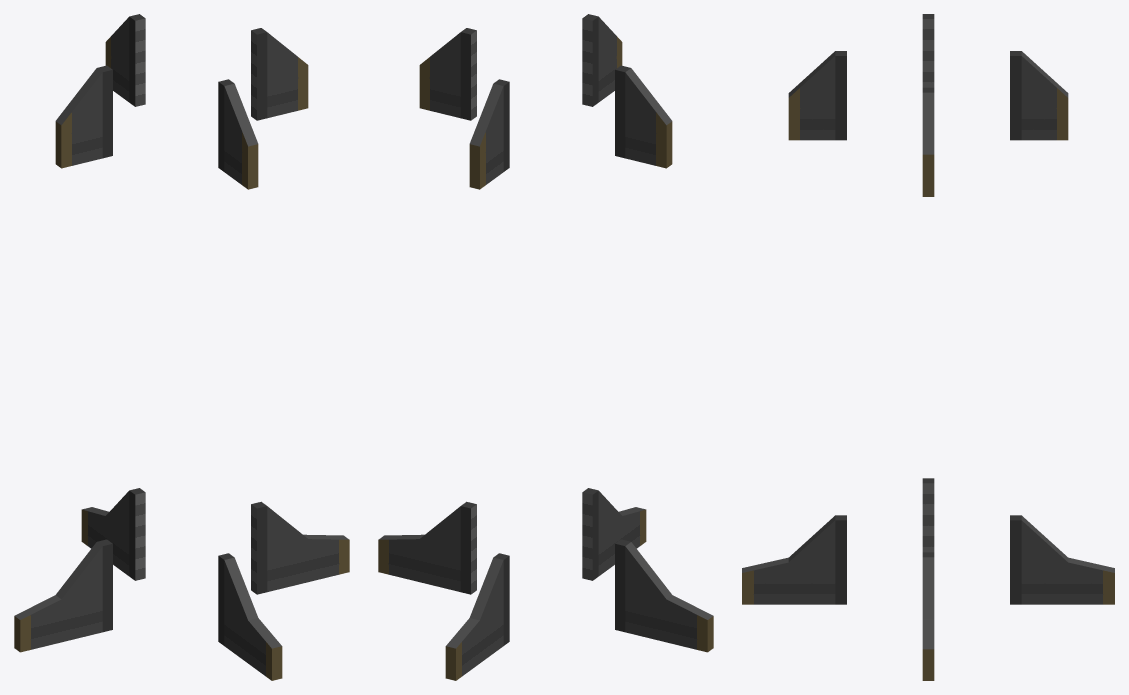
The model's file is mp_s_10_cruise.obj.
The picture shows the model from 3 angles, left to right: view 1: azimuth 30°, elevation 25°; view 2: azimuth 150°, elevation 25°; view 3: azimuth 270°, elevation 25°; orthographic projection. The views are drawn at different scales.
Visible parts, largest first — view 1: Cube; view 2: Cube; view 3: Cube.
Part boxes in pixels (left/top/right/bottom): Cube: left=14, top=14, right=349, bottom=680; Cube: left=378, top=14, right=713, bottom=680; Cube: left=742, top=14, right=1114, bottom=680.
Size of the model in its own units: 2 by 3.25 by 2.
